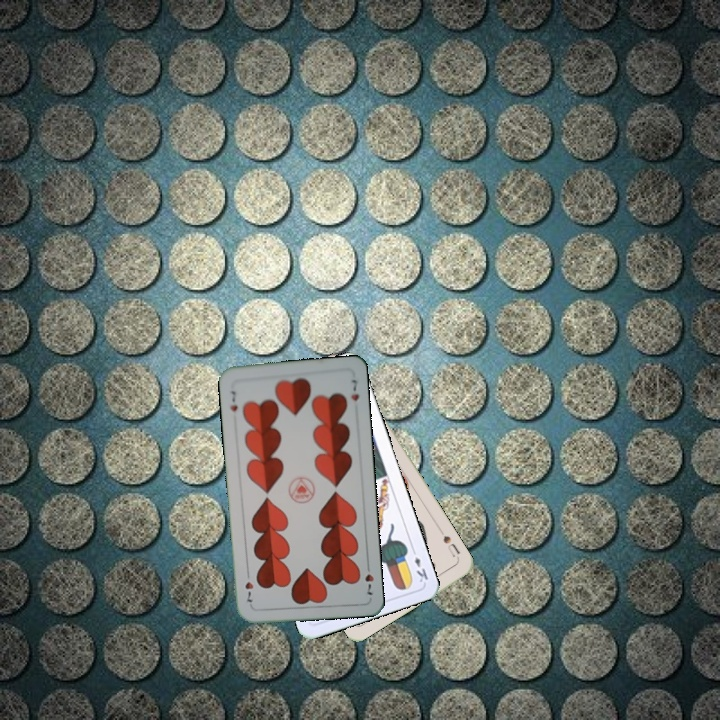EK: (408, 545, 431, 585)
H7: (361, 559, 376, 598), (226, 387, 240, 414)
SU: (436, 525, 462, 562)
